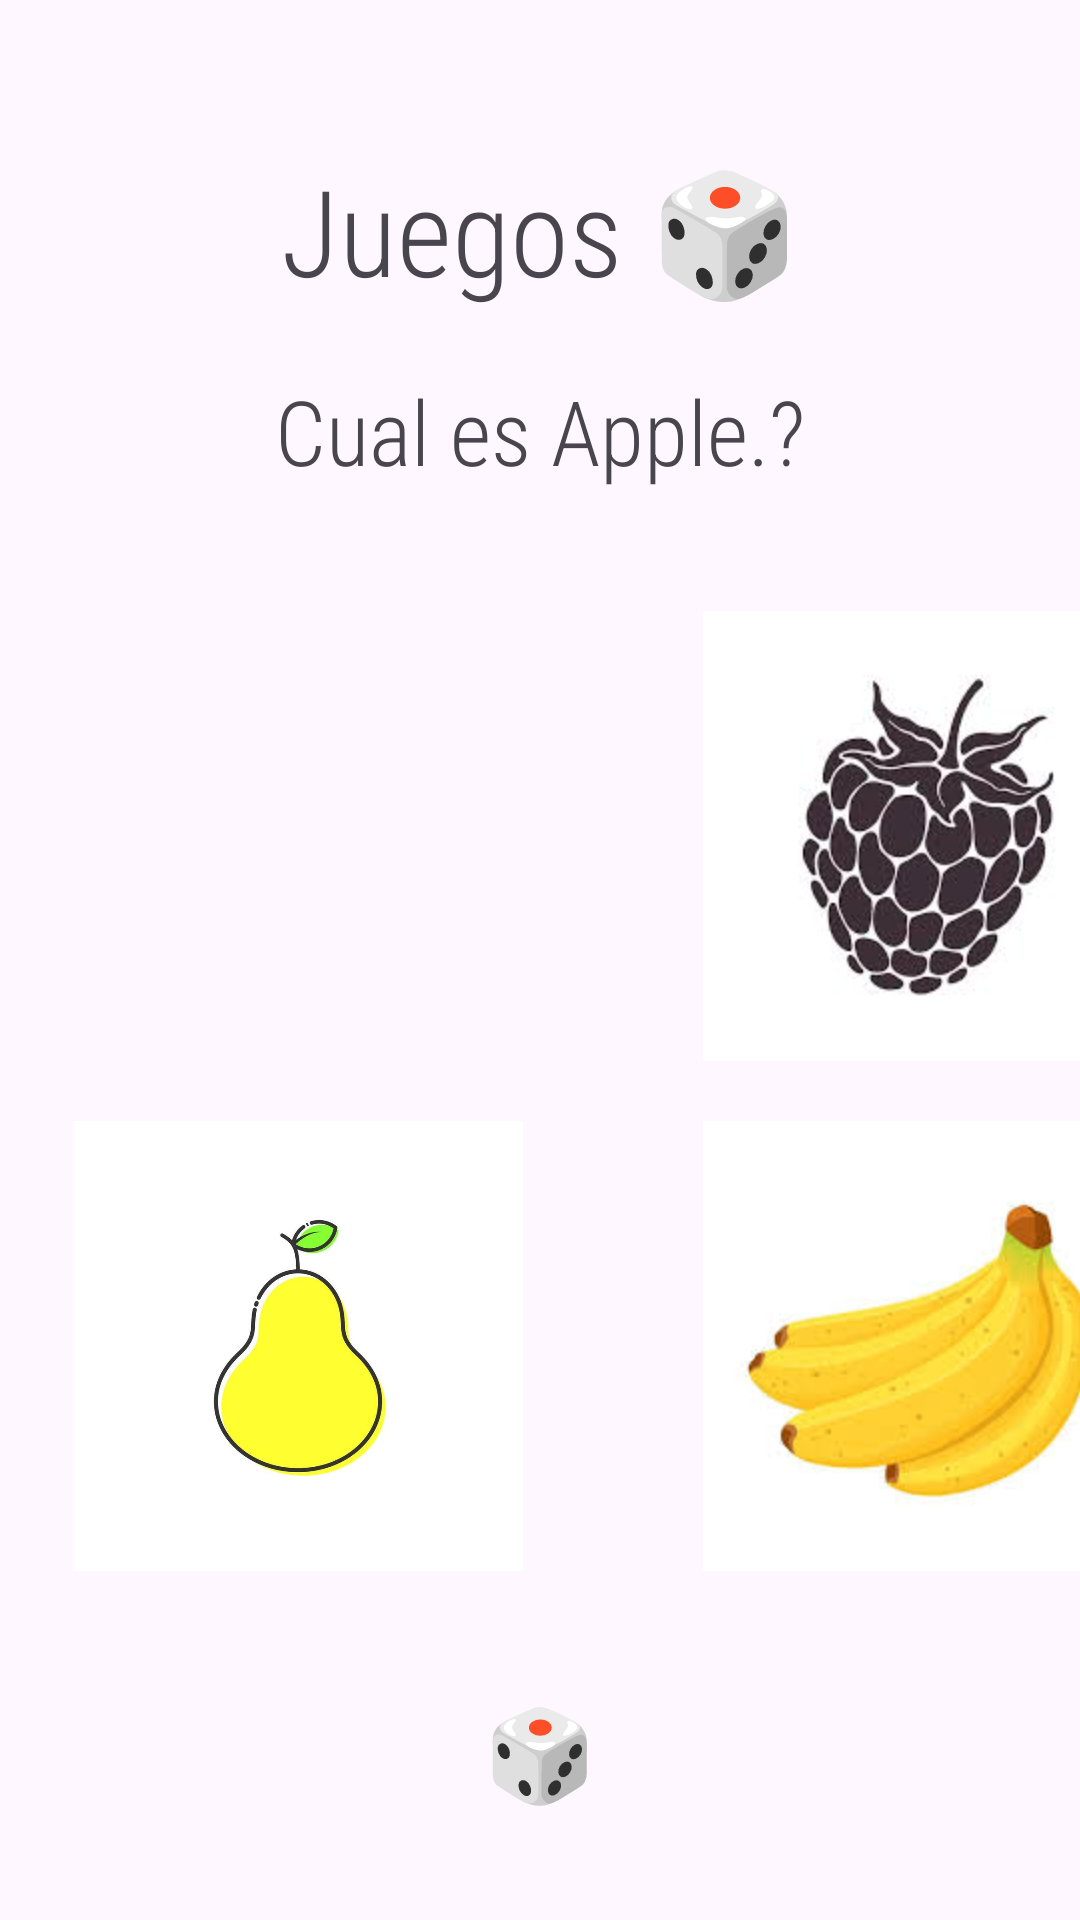

Icons on this 1080px×1920px Android screen, each with its box as (x1, y1, x2, y2):
pera: (214, 1220, 386, 1476)
